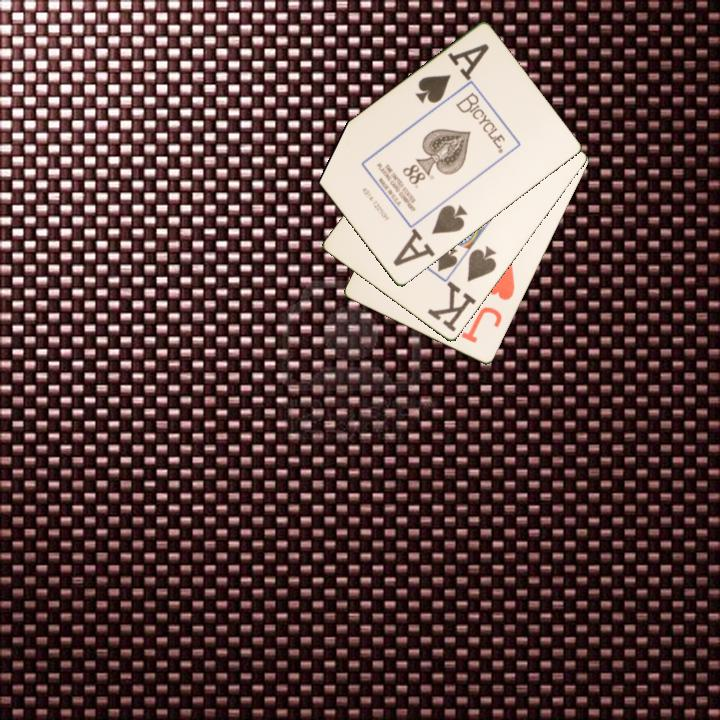As: (411, 40, 492, 107), (397, 201, 471, 263)
Jh: (458, 261, 518, 346)
Ks: (424, 243, 500, 335)
